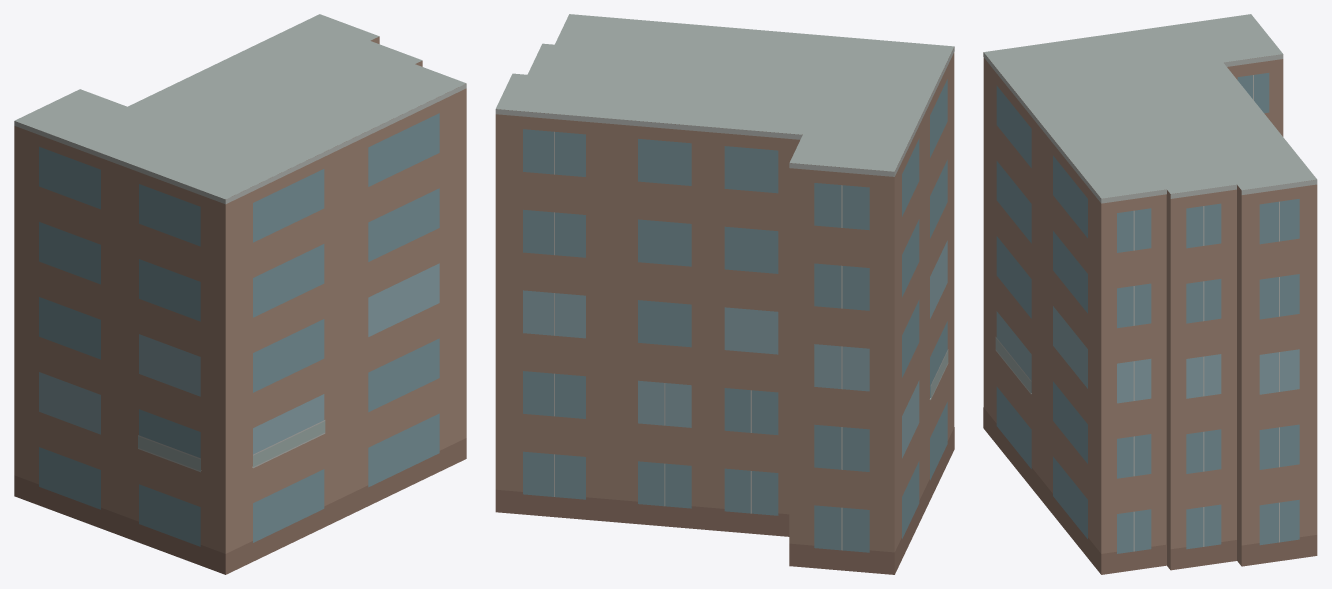
The model's file is survey-upis-32961697.glb.
3 renders of one model, left to right at view 1: azimuth 30°, elevation 25°; view 2: azimuth 150°, elevation 25°; view 3: azimuth 270°, elevation 25°, orthographic. The views are drawn at different scales.
Visible parts, largest first — view 1: survey-upis-32961697.tmp; view 2: survey-upis-32961697.tmp; view 3: survey-upis-32961697.tmp.
Part boxes in pixels (x1=…): survey-upis-32961697.tmp: x1=14, y1=14, x2=466, y2=574; survey-upis-32961697.tmp: x1=495, y1=14, x2=954, y2=574; survey-upis-32961697.tmp: x1=983, y1=14, x2=1317, y2=574.
Bounding box in the file's own units: 19.8 × 18.8 × 15.13.
